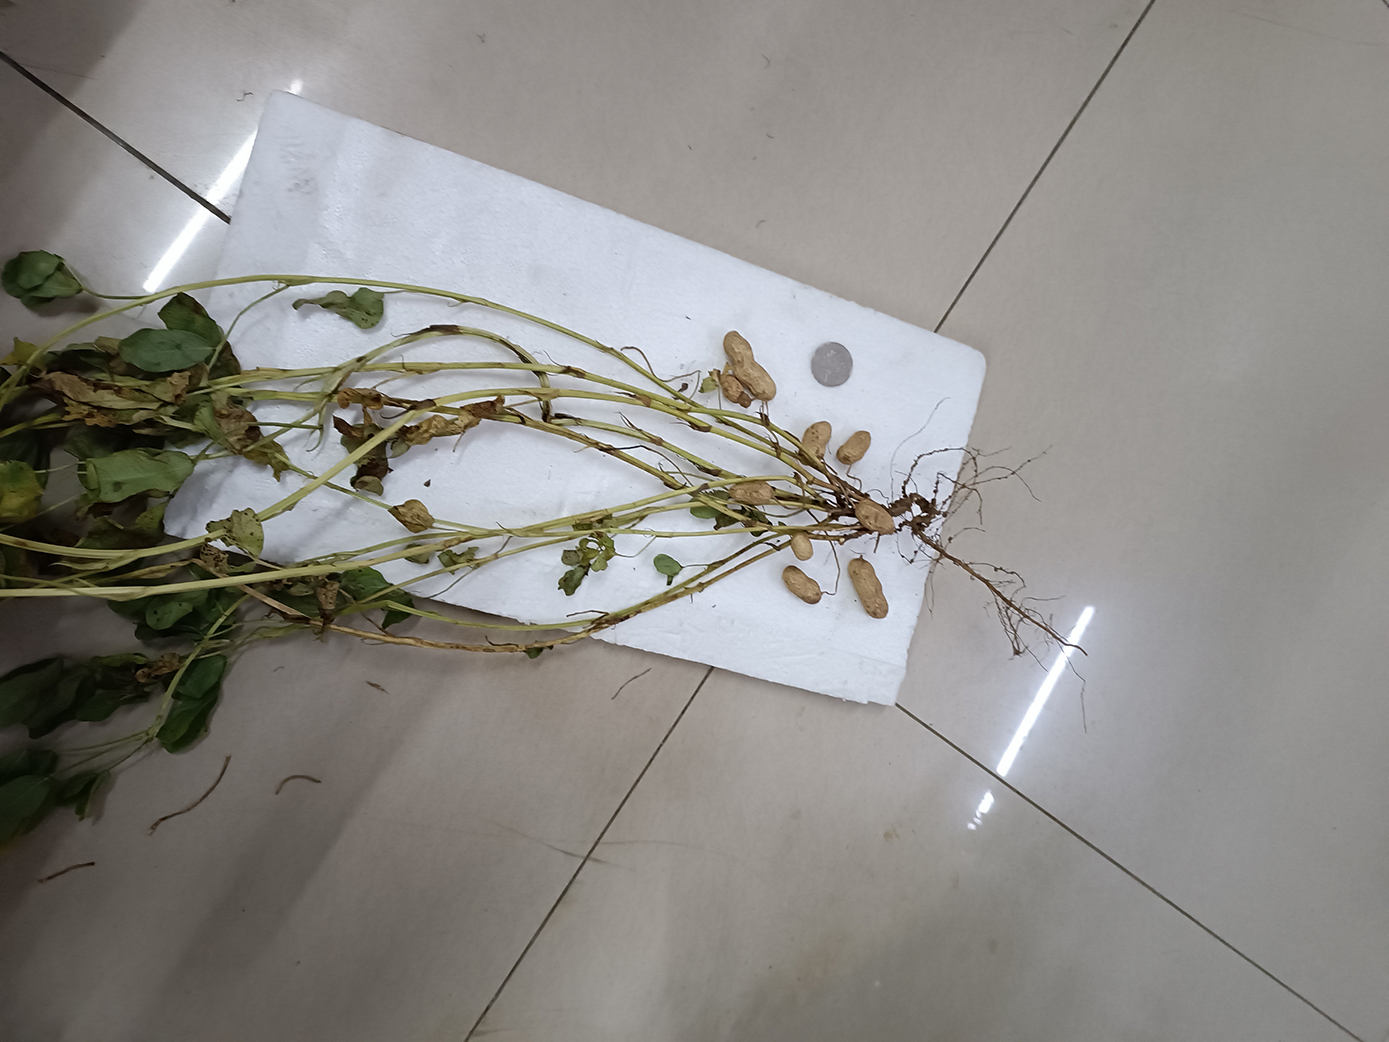h: (724, 331, 777, 400), (847, 558, 889, 620), (782, 564, 823, 605), (855, 498, 896, 533), (800, 419, 832, 460), (836, 430, 871, 464), (730, 481, 774, 503), (791, 532, 814, 561)
l: (720, 375, 752, 408)
